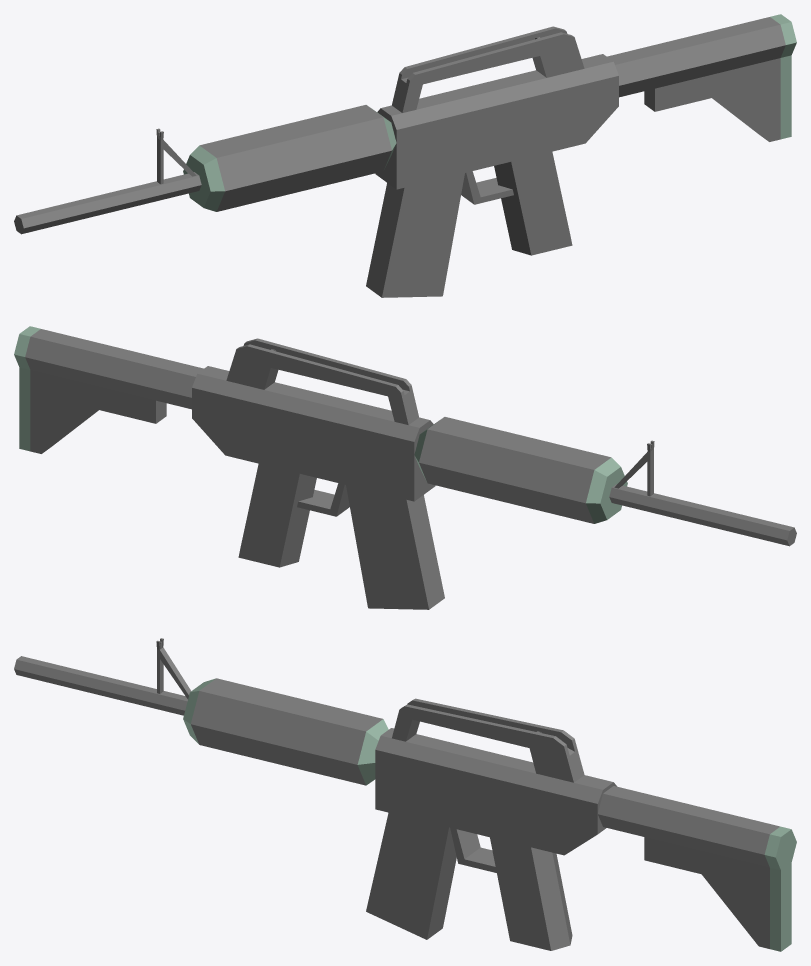
3 views of the same model, one above another, from view 1: azimuth 30°, elevation 25°; view 2: azimuth 150°, elevation 25°; view 3: azimuth 330°, elevation 25° (orthographic).
Parts seen in each view (by area): view 1: Gun, Mag; view 2: Gun, Mag; view 3: Gun, Mag.
Boxes of the visible parts, left/top/right/bottom form: Gun: left=14, top=14, right=796, bottom=255; Mag: left=366, top=173, right=464, bottom=297; Gun: left=14, top=326, right=796, bottom=567; Mag: left=346, top=485, right=444, bottom=609; Gun: left=14, top=638, right=796, bottom=951; Mag: left=366, top=812, right=456, bottom=939.
Bounding box in the file's own units: 0.69 × 0.1977 × 0.0537.
